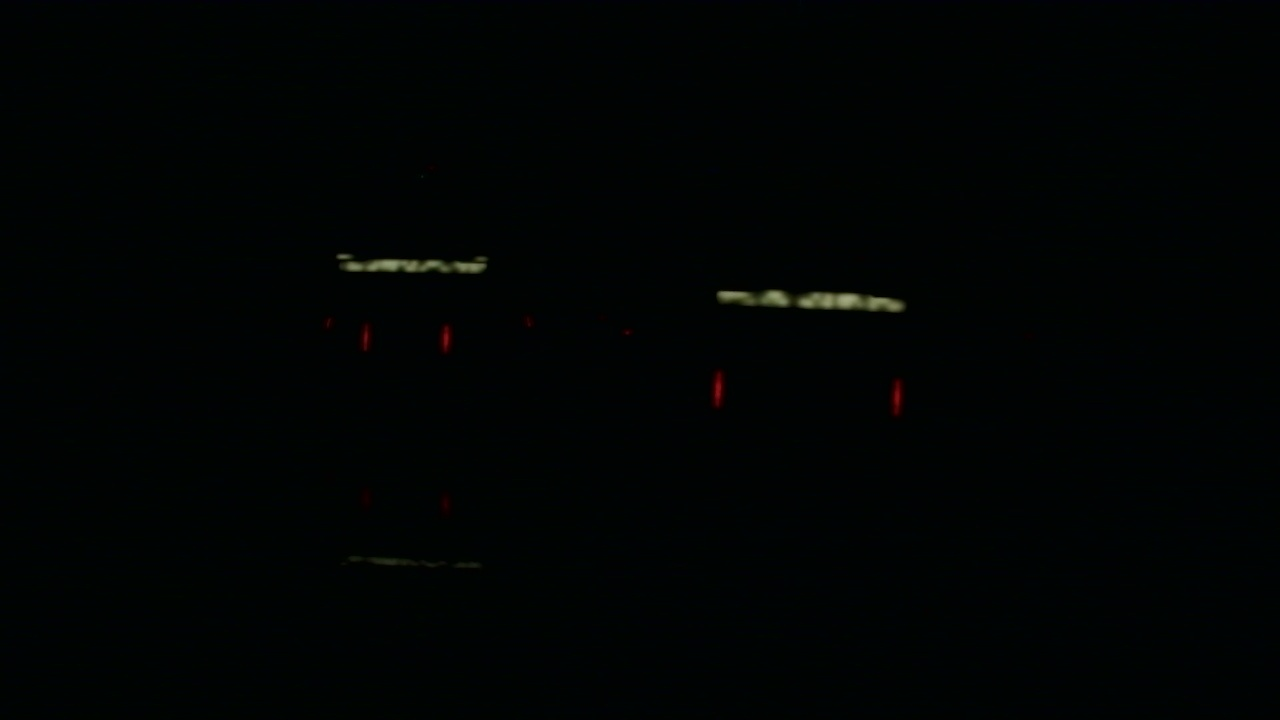lamp: (892, 367, 901, 416), (712, 366, 722, 410), (440, 322, 451, 349), (361, 321, 368, 349)
pair1: (361, 323, 449, 351)
pair2: (712, 369, 902, 420)
